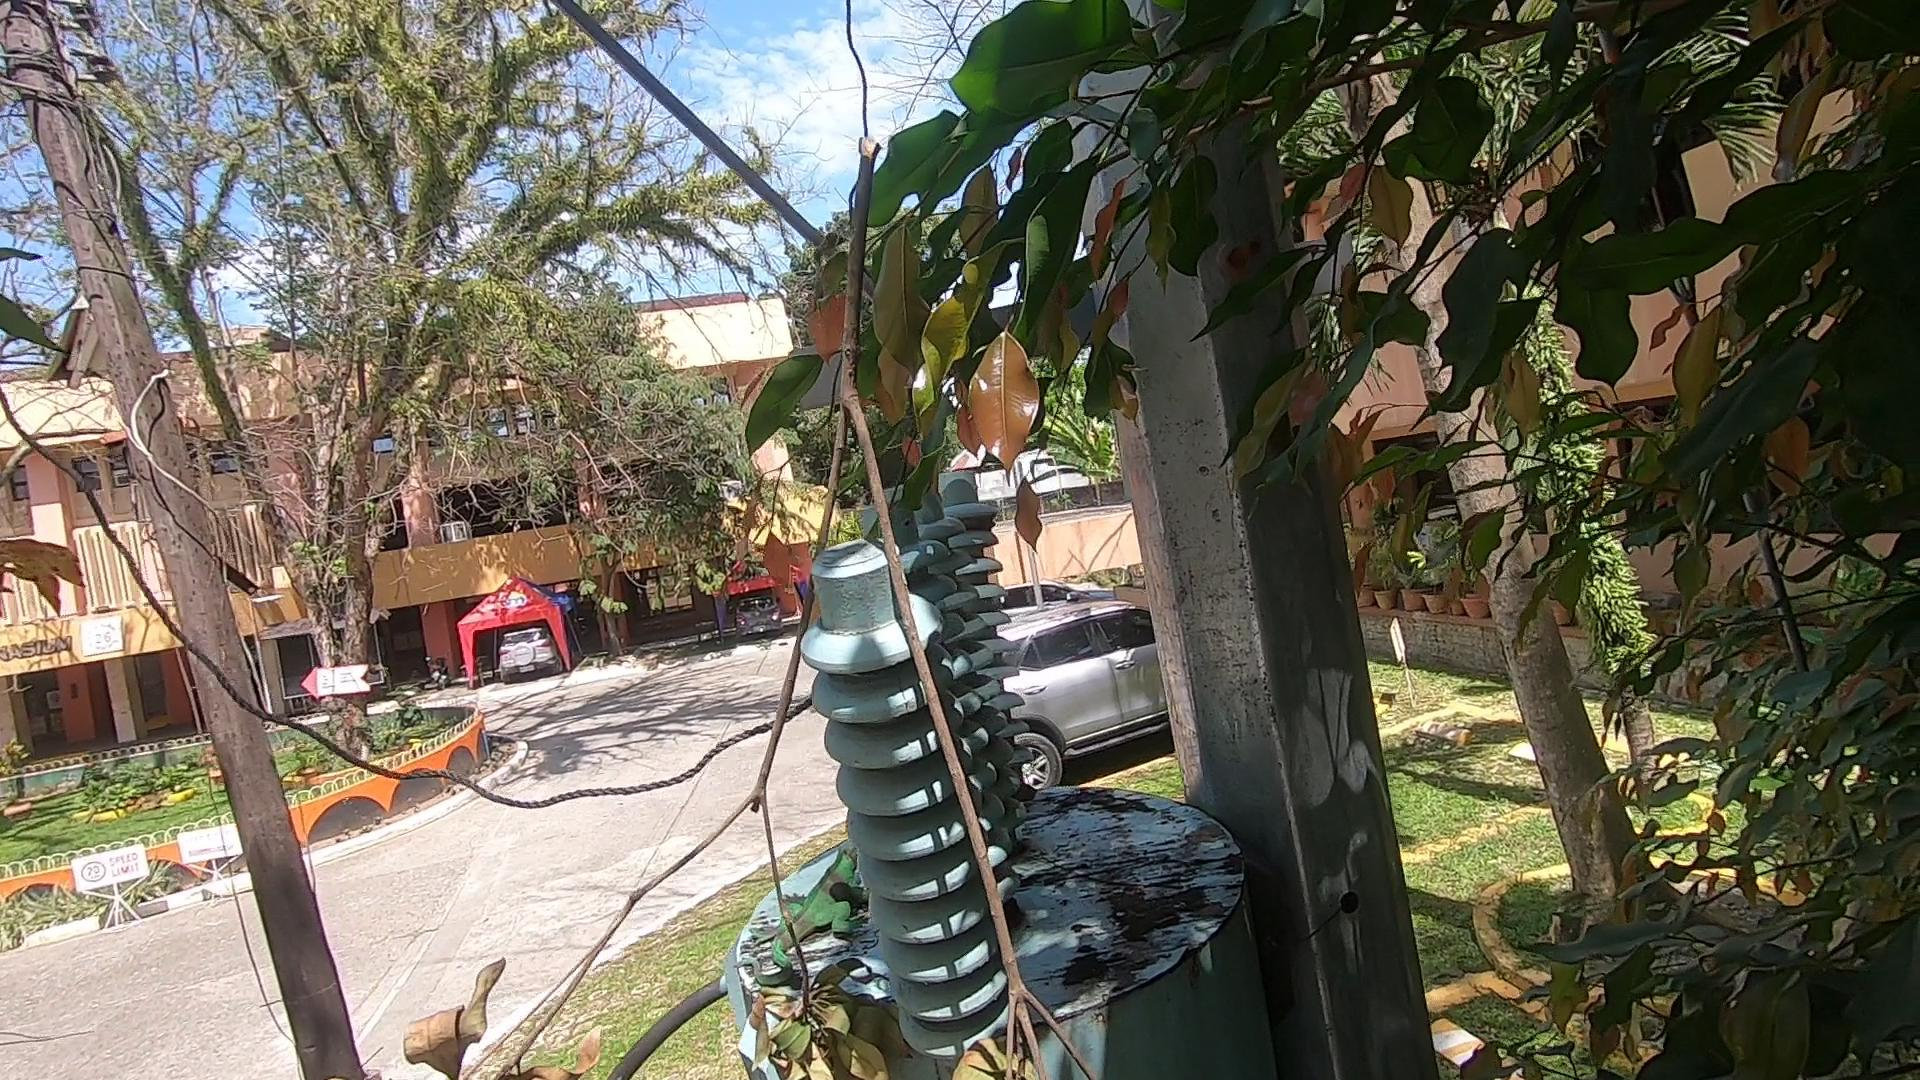branch with leaves: (359, 135, 1077, 1073)
leaf: (831, 876, 869, 916)
